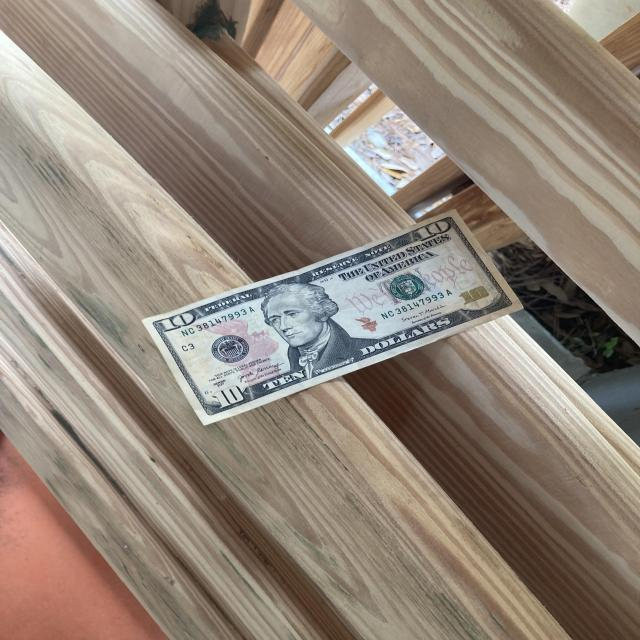ten: (142, 208, 526, 427)
